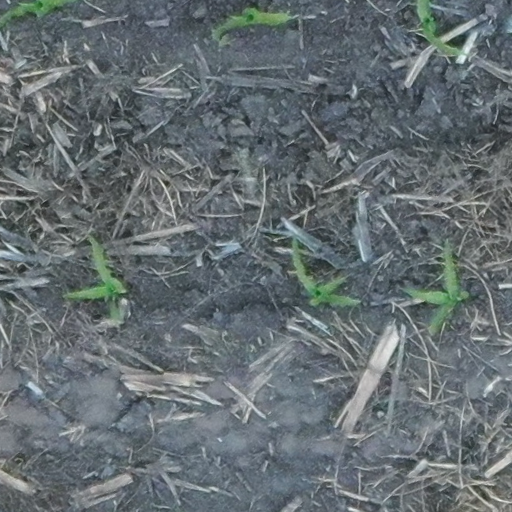planta: (401, 238, 466, 334), (62, 230, 124, 322), (291, 234, 365, 305), (215, 8, 299, 42)
